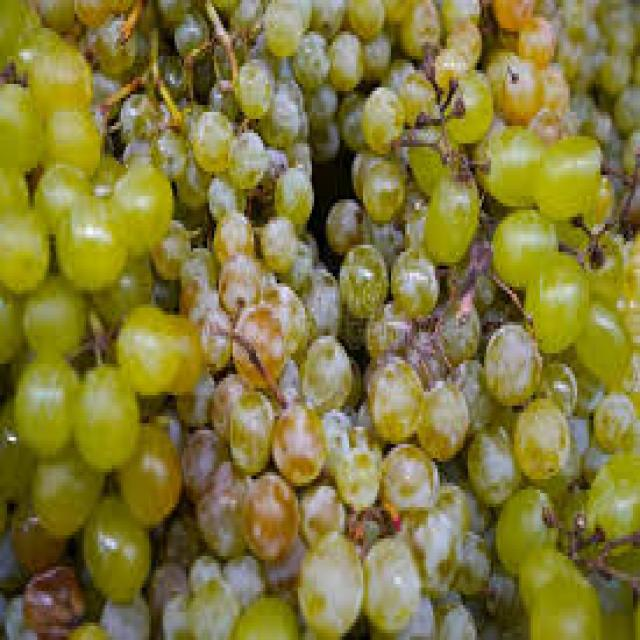organic waste: (0, 0, 638, 637), (110, 413, 182, 528), (51, 185, 128, 287), (296, 524, 360, 636), (72, 360, 137, 469), (77, 493, 144, 598), (28, 441, 100, 535), (522, 245, 586, 350), (9, 350, 72, 454), (580, 448, 638, 556), (358, 532, 416, 636), (393, 504, 461, 591), (470, 122, 542, 203), (424, 150, 477, 259), (112, 161, 172, 255), (531, 130, 598, 213), (21, 270, 86, 354), (235, 469, 296, 556), (491, 482, 559, 560), (116, 297, 174, 388), (575, 297, 633, 385), (270, 388, 323, 483), (489, 206, 556, 280), (379, 437, 440, 518), (28, 38, 91, 116), (196, 458, 247, 553), (366, 353, 422, 437), (482, 318, 540, 399), (528, 570, 598, 637), (19, 560, 79, 636), (7, 493, 65, 570), (326, 423, 379, 507), (514, 392, 566, 476), (466, 420, 516, 507), (230, 301, 282, 381), (0, 203, 49, 287), (223, 385, 270, 472), (400, 112, 456, 185), (91, 252, 149, 322), (35, 108, 98, 172), (419, 374, 465, 458), (516, 546, 574, 612), (338, 238, 387, 315), (31, 161, 88, 227), (184, 426, 228, 511), (0, 80, 42, 168), (300, 328, 347, 406), (258, 276, 305, 354), (363, 294, 417, 360), (186, 570, 238, 637), (577, 227, 624, 301), (444, 525, 496, 591), (442, 63, 489, 136), (391, 238, 438, 308), (184, 101, 233, 168), (230, 588, 298, 636), (428, 476, 486, 532), (263, 528, 305, 605), (433, 287, 477, 360), (368, 588, 433, 636), (444, 353, 488, 423), (387, 0, 442, 56), (146, 556, 184, 637), (188, 294, 230, 367), (549, 339, 603, 395), (400, 325, 447, 388), (165, 311, 205, 385), (298, 476, 340, 546), (0, 395, 30, 493), (158, 504, 202, 570), (298, 266, 342, 332), (447, 525, 489, 591), (498, 56, 540, 122), (256, 77, 298, 143), (547, 479, 584, 553), (358, 84, 401, 147), (174, 129, 210, 203), (479, 42, 519, 108), (361, 206, 405, 266), (358, 161, 405, 217), (246, 18, 288, 80), (584, 560, 633, 612), (221, 549, 263, 609), (272, 157, 312, 220), (172, 357, 210, 423), (482, 566, 526, 622), (12, 21, 56, 77), (554, 409, 589, 479), (260, 0, 310, 49), (119, 87, 165, 140), (233, 52, 270, 116), (216, 248, 258, 304), (90, 14, 132, 70), (226, 126, 263, 189), (98, 588, 146, 636), (210, 206, 252, 259), (152, 213, 188, 273), (552, 35, 596, 84), (594, 385, 630, 444), (324, 196, 361, 252), (168, 7, 207, 59), (612, 266, 638, 343), (328, 24, 361, 84), (256, 213, 293, 266), (180, 241, 217, 294), (151, 119, 186, 175), (512, 10, 554, 56), (291, 28, 328, 80), (470, 270, 510, 318), (398, 182, 426, 248), (207, 371, 242, 423), (396, 66, 430, 119), (538, 356, 574, 406), (0, 588, 37, 636), (277, 234, 312, 284), (254, 143, 284, 200), (86, 66, 123, 112), (346, 143, 382, 189), (568, 357, 598, 412), (358, 24, 389, 77), (207, 171, 242, 217), (600, 7, 638, 49), (0, 280, 19, 364), (0, 161, 28, 217), (575, 437, 612, 479), (580, 172, 612, 220), (463, 476, 489, 535), (151, 52, 184, 98), (594, 49, 630, 91), (444, 18, 480, 60), (69, 0, 132, 24), (272, 353, 300, 406), (577, 105, 612, 147), (552, 0, 594, 35), (612, 80, 638, 136), (335, 88, 361, 144), (184, 46, 214, 94), (438, 598, 474, 637), (588, 0, 638, 28), (344, 0, 394, 28), (179, 273, 212, 315), (0, 0, 21, 66), (160, 584, 188, 633), (184, 549, 219, 588), (437, 0, 481, 31), (600, 549, 638, 584), (61, 608, 107, 636), (526, 101, 559, 140), (305, 77, 335, 119), (91, 147, 121, 189), (154, 0, 196, 28), (491, 612, 538, 637), (118, 136, 154, 168), (205, 73, 233, 112), (563, 14, 598, 45), (619, 342, 638, 398), (307, 119, 335, 157), (540, 59, 563, 105), (489, 0, 533, 24), (35, 0, 72, 28), (433, 46, 463, 80), (600, 608, 636, 636), (74, 580, 102, 616), (230, 0, 266, 28), (554, 220, 589, 248), (340, 304, 363, 346), (310, 0, 344, 28), (616, 178, 638, 220), (286, 133, 310, 171), (621, 122, 638, 175), (340, 353, 358, 402), (379, 56, 410, 84), (563, 84, 591, 112), (135, 24, 156, 60), (554, 108, 579, 133), (535, 0, 563, 21), (0, 570, 19, 598), (298, 616, 321, 636), (256, 256, 272, 284), (135, 0, 156, 21), (626, 46, 638, 80), (210, 0, 238, 14), (628, 598, 638, 637), (626, 416, 638, 448), (298, 231, 312, 255), (0, 493, 5, 528)
